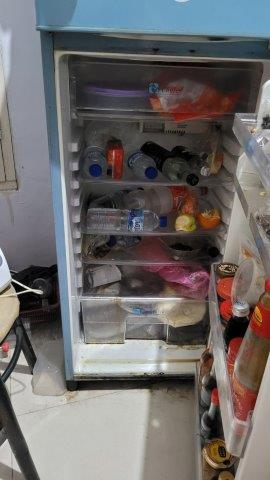botolkaca: (139, 141, 202, 188)
